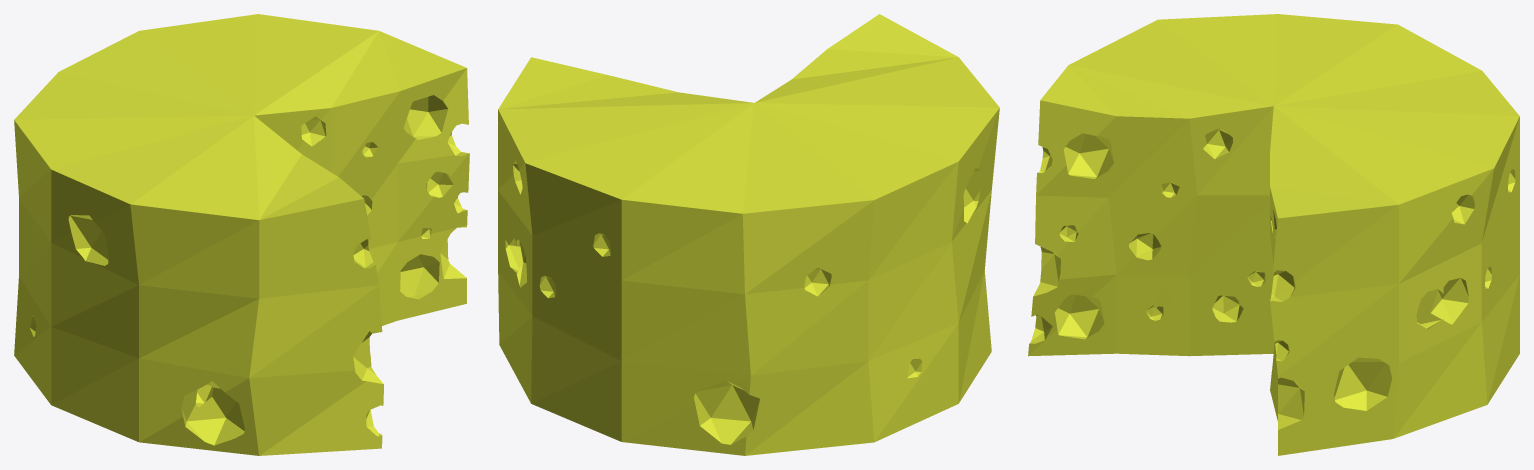
Rendered from cheese_2_s 1.fbx.
3 views of the same model, side by side, from view 1: azimuth 30°, elevation 25°; view 2: azimuth 150°, elevation 25°; view 3: azimuth 270°, elevation 25° (orthographic). The views are drawn at different scales.
Parts seen in each view (by area): view 1: Cylinder.001, Cylinder, Cylinder.003, Cylinder.004, Cylinder.002; view 2: Cylinder.001, Cylinder, Cylinder.003, Cylinder.004, Cylinder.002; view 3: Cylinder.003, Cylinder.002, Cylinder.004, Cylinder, Cylinder.001.
Part boxes in pixels (bbox=[...]): Cylinder.001: bbox=[14, 86, 236, 452]; Cylinder: bbox=[46, 46, 340, 455]; Cylinder.003: bbox=[110, 22, 383, 450]; Cylinder.004: bbox=[198, 14, 402, 325]; Cylinder.002: bbox=[314, 22, 469, 320]; Cylinder.001: bbox=[772, 69, 999, 452]; Cylinder: bbox=[664, 25, 967, 455]; Cylinder.003: bbox=[574, 14, 898, 446]; Cylinder.004: bbox=[513, 74, 693, 422]; Cylinder.002: bbox=[498, 57, 604, 376]; Cylinder.003: bbox=[1028, 91, 1519, 378]; Cylinder.002: bbox=[1270, 183, 1450, 455]; Cylinder.004: bbox=[1270, 137, 1506, 420]; Cylinder: bbox=[1047, 50, 1505, 308]; Cylinder.001: bbox=[1090, 14, 1457, 57].
Size of the model in its own units: 236 by 135 by 240.
